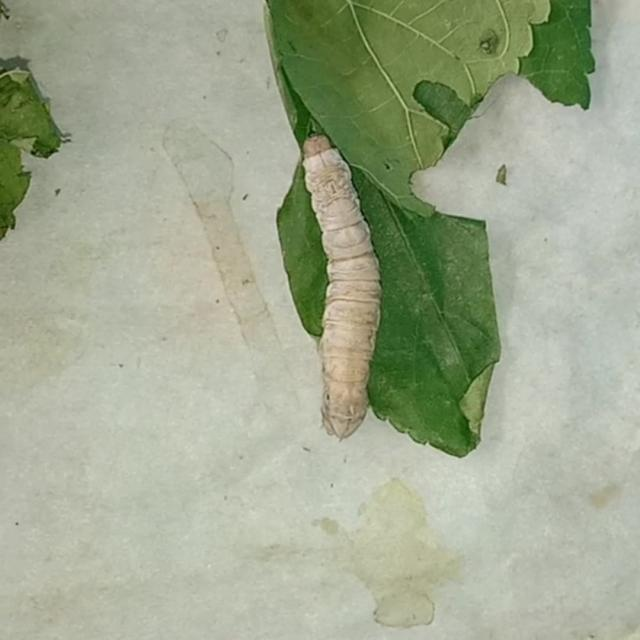Grasserie: (280, 123, 403, 455)
